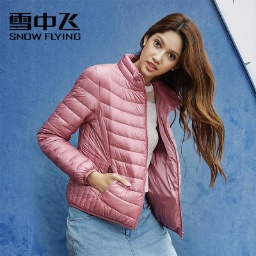face: (131, 12, 206, 87)
